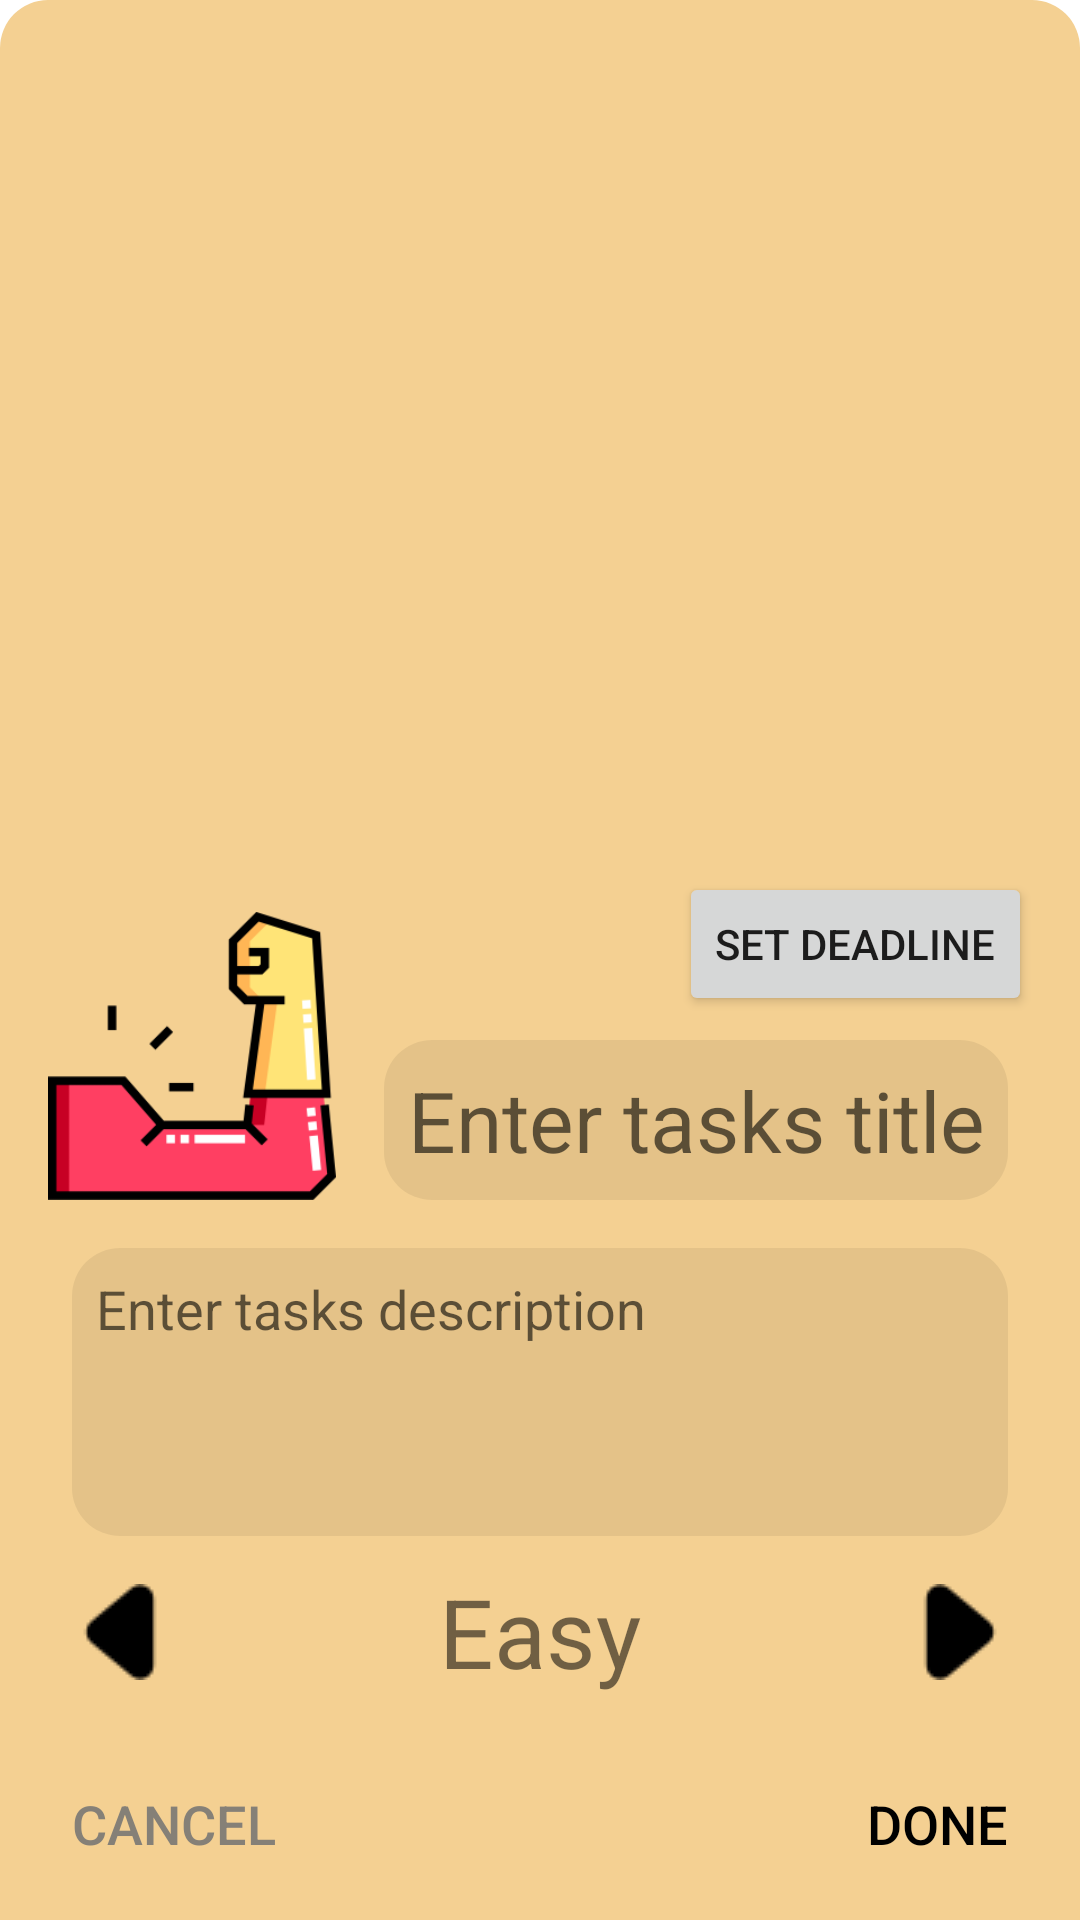

Point at icon controls on the screen. Image size 1080×1920, points as [x,y].
arrow left: [120,1632]
arrow right: [959,1632]
strength: [192,1056]
